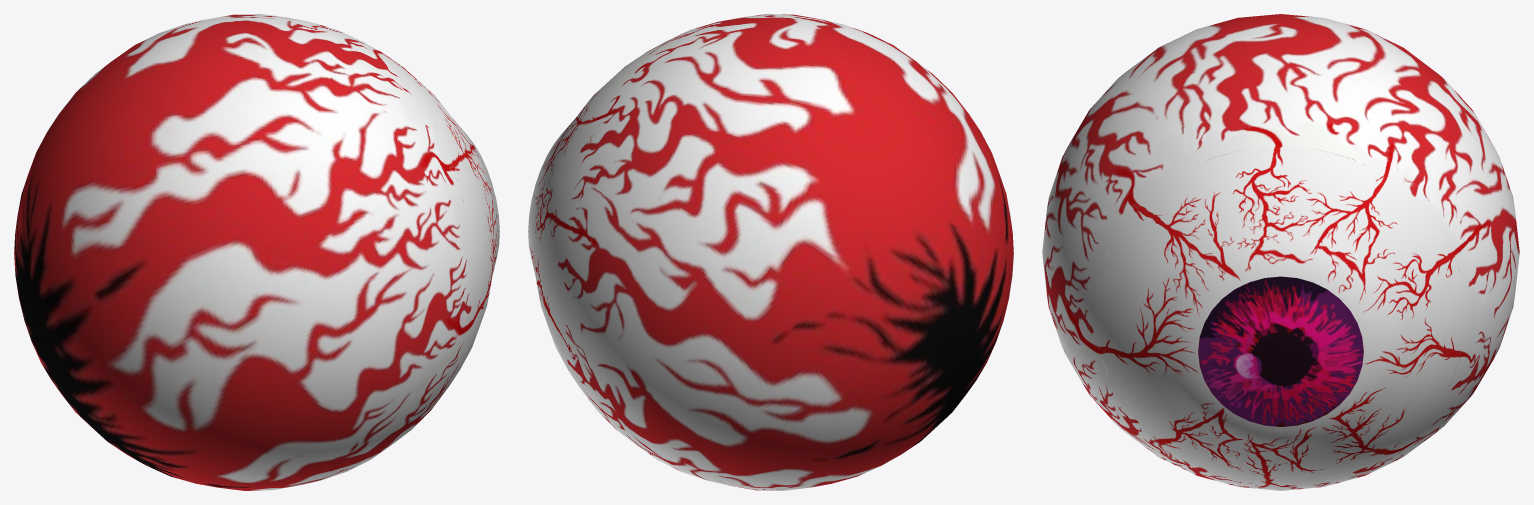
Rendered from occhione-opt.glb.
3 views of the same model, side by side, from view 1: azimuth 30°, elevation 25°; view 2: azimuth 150°, elevation 25°; view 3: azimuth 270°, elevation 25° (orthographic).
Parts seen in each view (by area): view 1: Sphere; view 2: Sphere; view 3: Sphere.
Part boxes in pixels (x1,y1,x2,y2): Sphere: (14,14,499,490); Sphere: (528,14,1013,490); Sphere: (1042,14,1519,490).
Size of the model in its own units: 2.06 by 2 by 2.
Materials: 3 (3 with a texture image).
